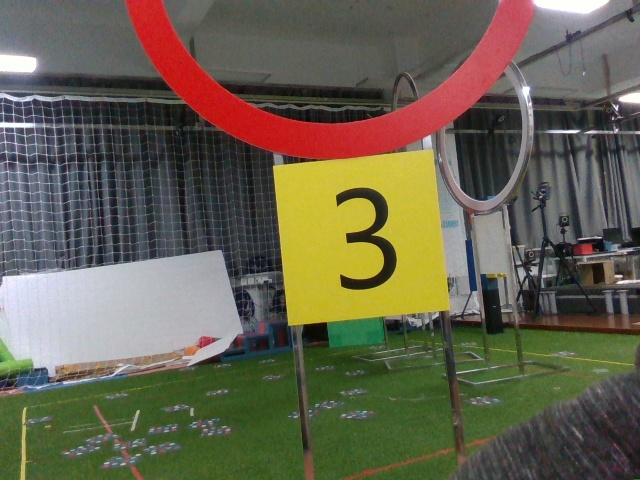target: (285, 164, 449, 312)
